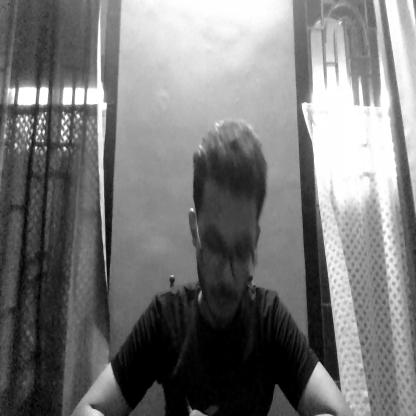Distracted: (182, 131, 274, 320)
